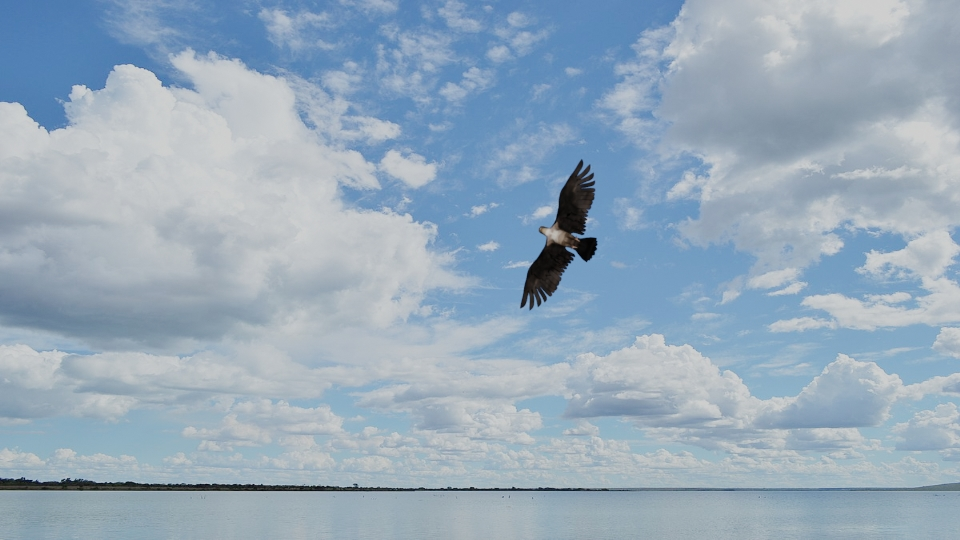bird: (517, 159, 601, 308)
